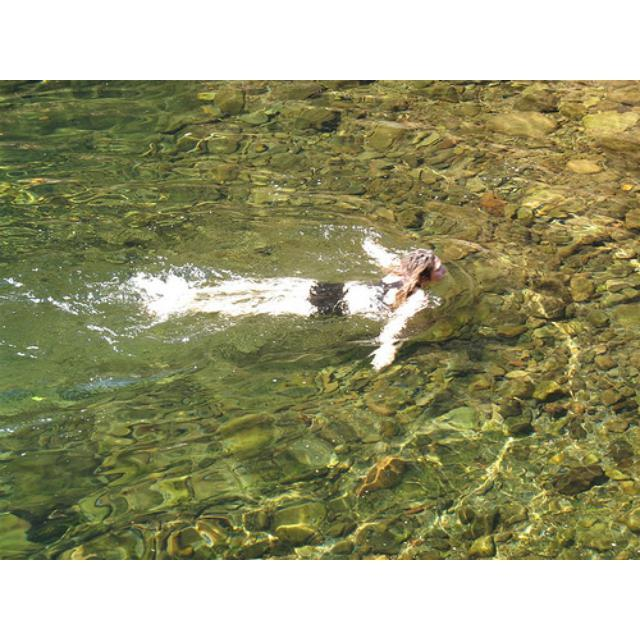human: (200, 235, 448, 363)
